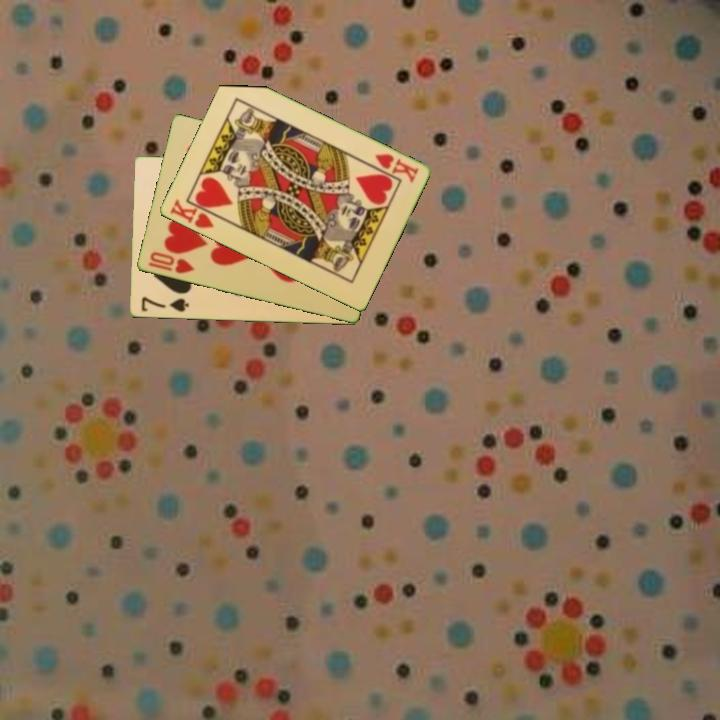10h: (145, 248, 197, 277)
7s: (137, 294, 191, 315)
Kh: (166, 196, 223, 231), (371, 150, 421, 186)
